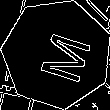M_W: (25, 24, 88, 84)
